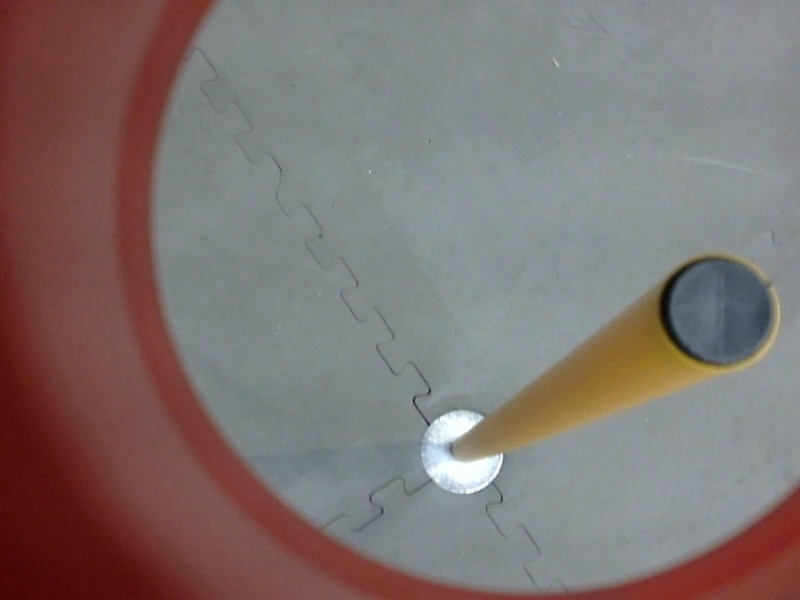tip: (649, 240, 786, 383)
